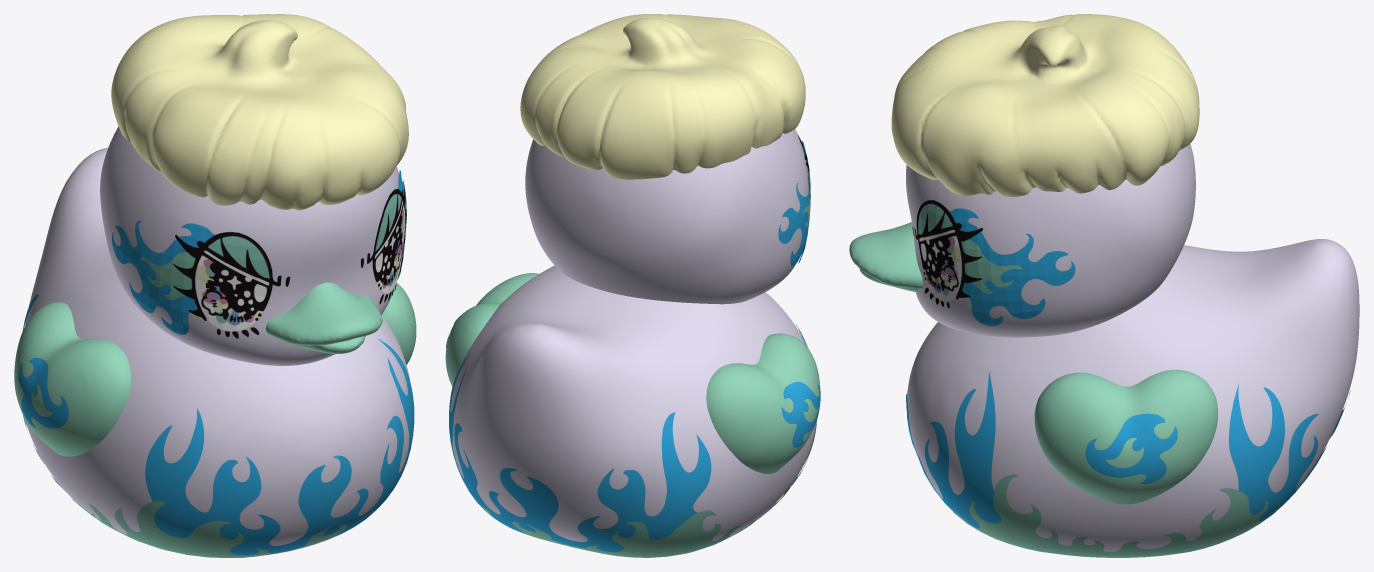
3 renders of one model, left to right at view 1: azimuth 30°, elevation 25°; view 2: azimuth 150°, elevation 25°; view 3: azimuth 270°, elevation 25°, orthographic. The views are drawn at different scales.
Parts seen in each view (by area): view 1: Torebi 5, H-01 1.001, Fix, 平面.001, 平面.002, Torebi 7, Torebi 3, 平面.004, Torebi 4; view 2: Torebi 5, H-01 1.001, Fix, 平面.001, Torebi 7, Torebi 4, 平面.004, 平面.002; view 3: Torebi 5, H-01 1.001, Fix, 平面.001, Torebi 4, 平面.002, Torebi 3, 平面.003.
Boxes of the visible parts, x1,y1,x2,y2 form: Torebi 5: [25, 147, 410, 545]; H-01 1.001: [111, 14, 408, 210]; Fix: [100, 126, 398, 365]; 平面.001: [22, 294, 414, 557]; 平面.002: [112, 170, 406, 338]; Torebi 7: [14, 302, 131, 456]; Torebi 3: [265, 282, 382, 353]; 平面.004: [18, 357, 68, 428]; Torebi 4: [382, 282, 416, 364]; Torebi 5: [450, 265, 815, 542]; H-01 1.001: [520, 14, 805, 179]; Fix: [525, 129, 808, 304]; 平面.001: [449, 324, 816, 557]; Torebi 7: [706, 333, 820, 473]; Torebi 4: [445, 273, 538, 386]; 平面.004: [781, 381, 820, 447]; 平面.002: [778, 134, 810, 266]; Torebi 5: [907, 239, 1359, 551]; H-01 1.001: [891, 14, 1199, 196]; Fix: [906, 144, 1195, 337]; 平面.001: [906, 372, 1350, 557]; Torebi 4: [1034, 369, 1217, 504]; 平面.002: [912, 200, 1075, 326]; Torebi 3: [849, 222, 922, 291]; 平面.003: [1085, 413, 1177, 483].
Bounding box in the file's own units: 50.64 × 64.96 × 62.09.
Materials: 8 (4 with a texture image).
